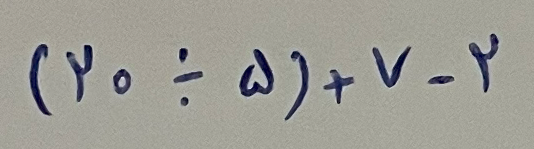character: (282, 49, 311, 125), (467, 31, 501, 95), (237, 46, 276, 99), (170, 46, 203, 108), (371, 43, 414, 89), (27, 41, 51, 117), (65, 42, 93, 103), (322, 67, 357, 104), (111, 67, 132, 96), (427, 73, 456, 87)
